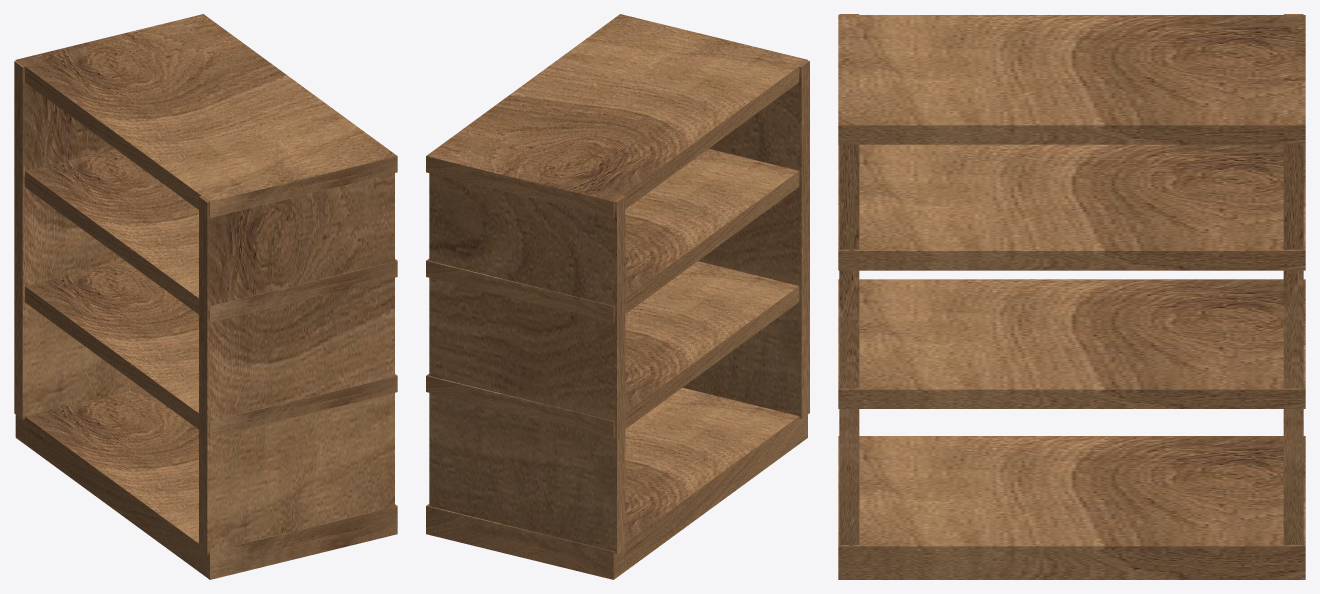
File: shelf.fbx
3 renders of one model, left to right at view 1: azimuth 30°, elevation 25°; view 2: azimuth 150°, elevation 25°; view 3: azimuth 270°, elevation 25°, orthographic. The views are drawn at different scales.
Parts seen in each view (by area): view 1: Cube; view 2: Cube; view 3: Cube.
Part boxes in pixels (x1,y1,x2,y2): Cube: [14, 14, 397, 579]; Cube: [426, 14, 809, 579]; Cube: [838, 14, 1305, 579].
Bounding box in the file's own units: 280 × 532 × 496.
